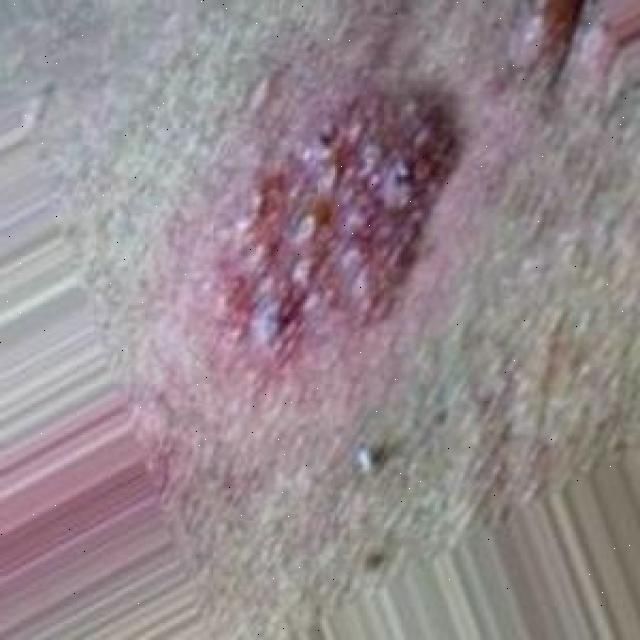Shingles: (229, 87, 459, 343)
